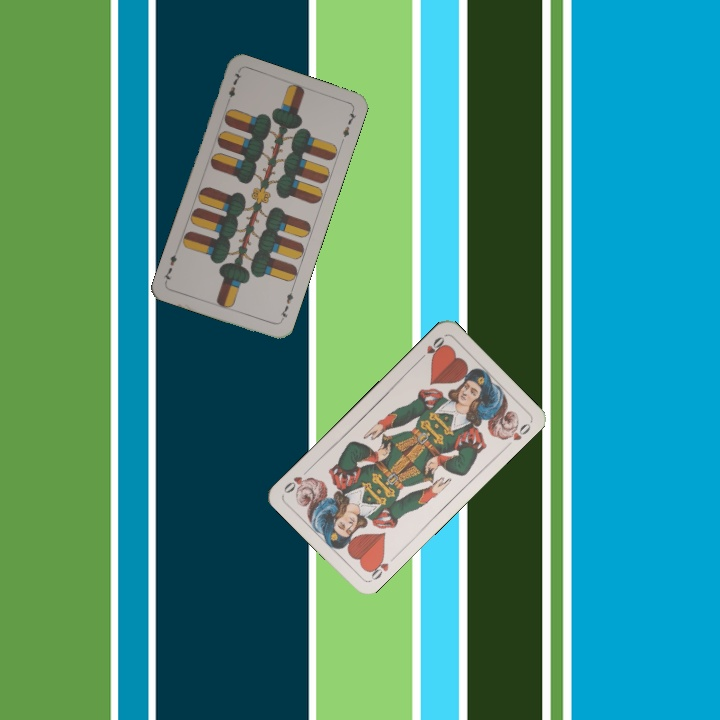E7: (223, 68, 245, 107), (276, 285, 296, 325)
HO: (364, 551, 399, 583), (415, 332, 447, 364)
